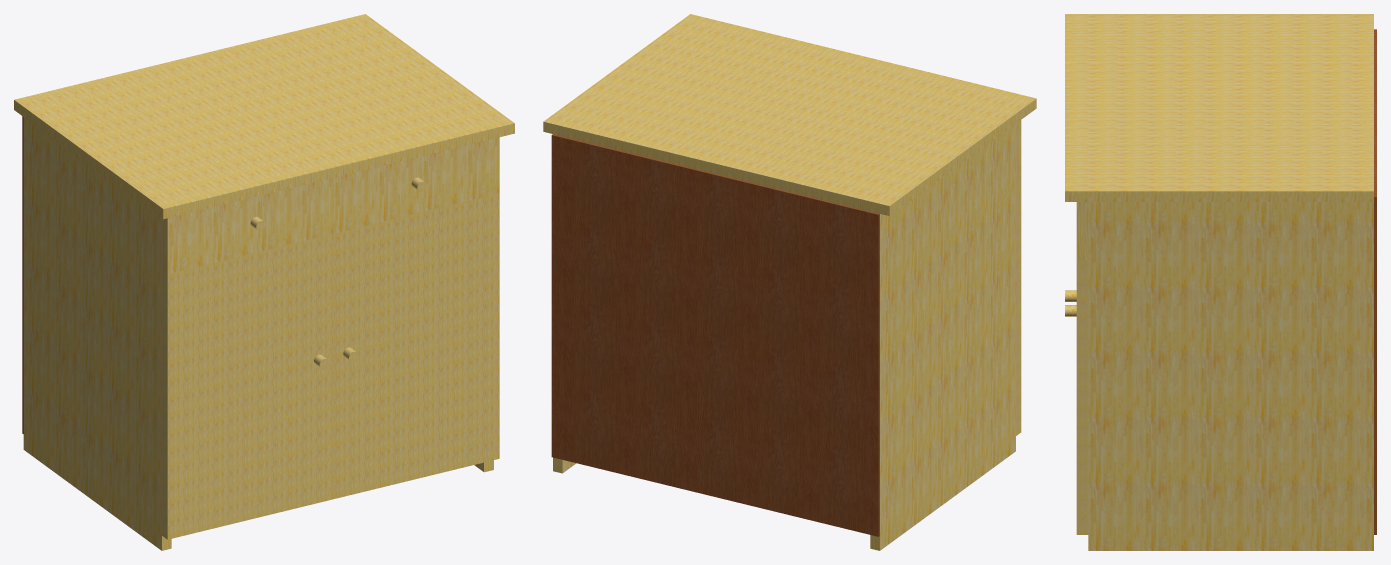
The model's file is counter2.fbx.
The picture shows the model from 3 angles, left to right: view 1: azimuth 30°, elevation 25°; view 2: azimuth 150°, elevation 25°; view 3: azimuth 270°, elevation 25°; orthographic projection. The views are drawn at different scales.
Visible parts, largest first — view 1: Base1; view 2: Base1; view 3: Base1.
Boxes of the visible parts, left/top/right/bottom form: Base1: left=14, top=14, right=514, bottom=550; Base1: left=543, top=14, right=1036, bottom=550; Base1: left=1065, top=14, right=1376, bottom=550.
Bounding box in the file's own units: 72 × 69 × 53.5.
2 materials, 2 textured.
